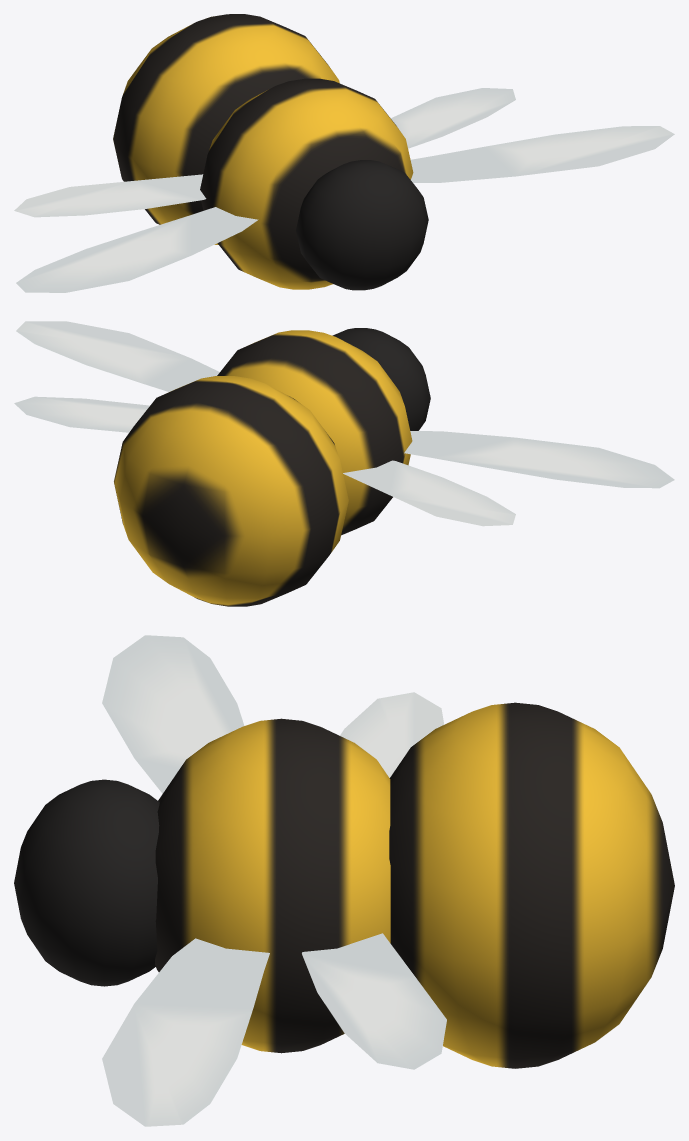
Rendered from bumblebee1.fbx.
The picture shows the model from 3 angles, top to bottom: view 1: azimuth 30°, elevation 25°; view 2: azimuth 150°, elevation 25°; view 3: azimuth 270°, elevation 25°; orthographic projection. The views are drawn at different scales.
Parts seen in each view (by area): view 1: Sphere; view 2: Sphere; view 3: Sphere.
Part boxes in pixels (x1=…): Sphere: x1=14, y1=14, x2=674, y2=292; Sphere: x1=14, y1=321, x2=674, y2=606; Sphere: x1=14, y1=635, x2=674, y2=1126.
Size of the model in its own units: 38.43 by 12.02 by 21.83.
